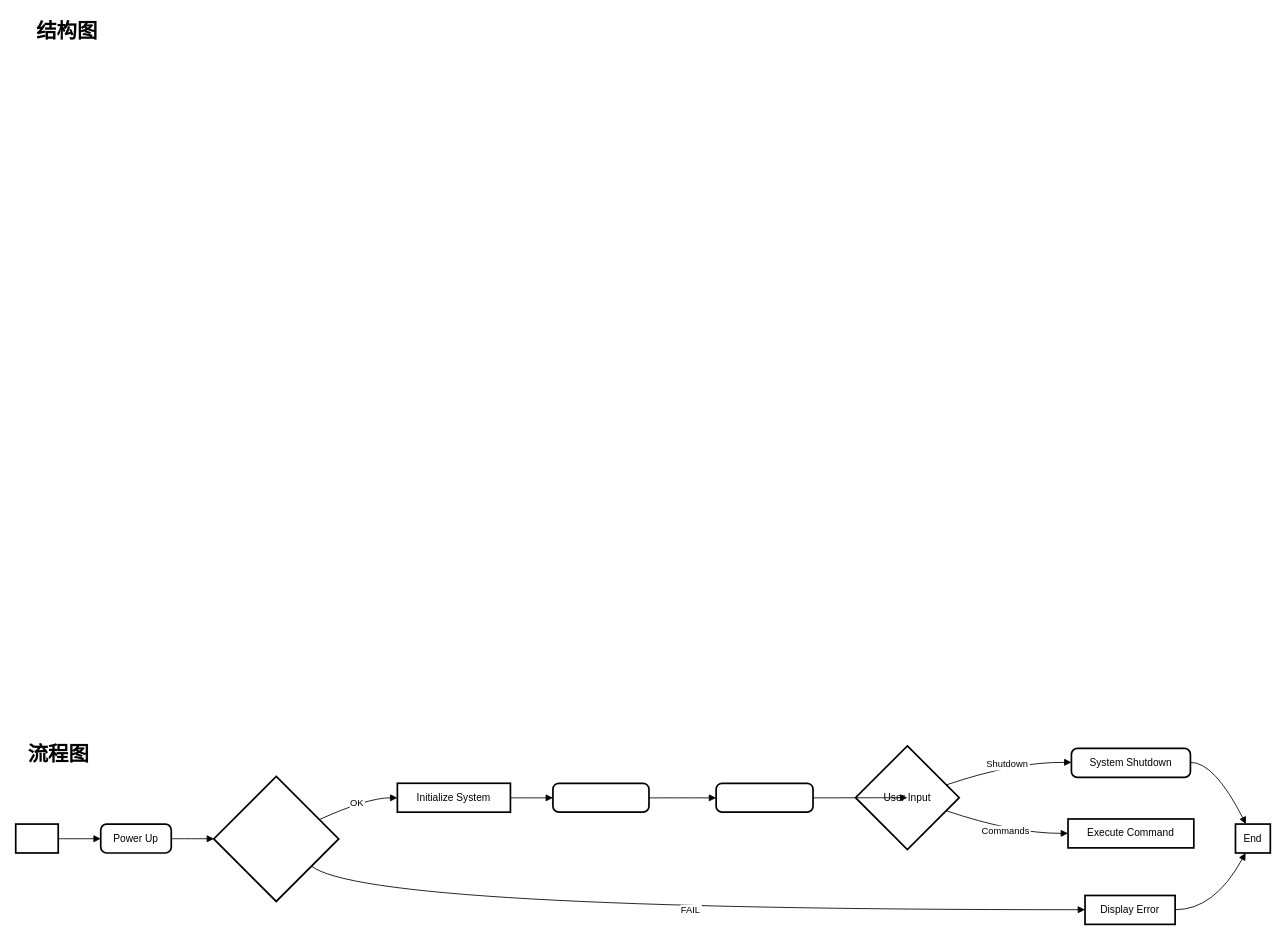
Some shapes in this 1285 by 939 pixel diagram are drawn without their labels. The shapes that lost their labels are listed below. From the top down, each one's centre as x and y in pixels, then its label:
(600,797): System Ready
(764,797): Standby Mode
(36,838): Start
(275,838): System Check
